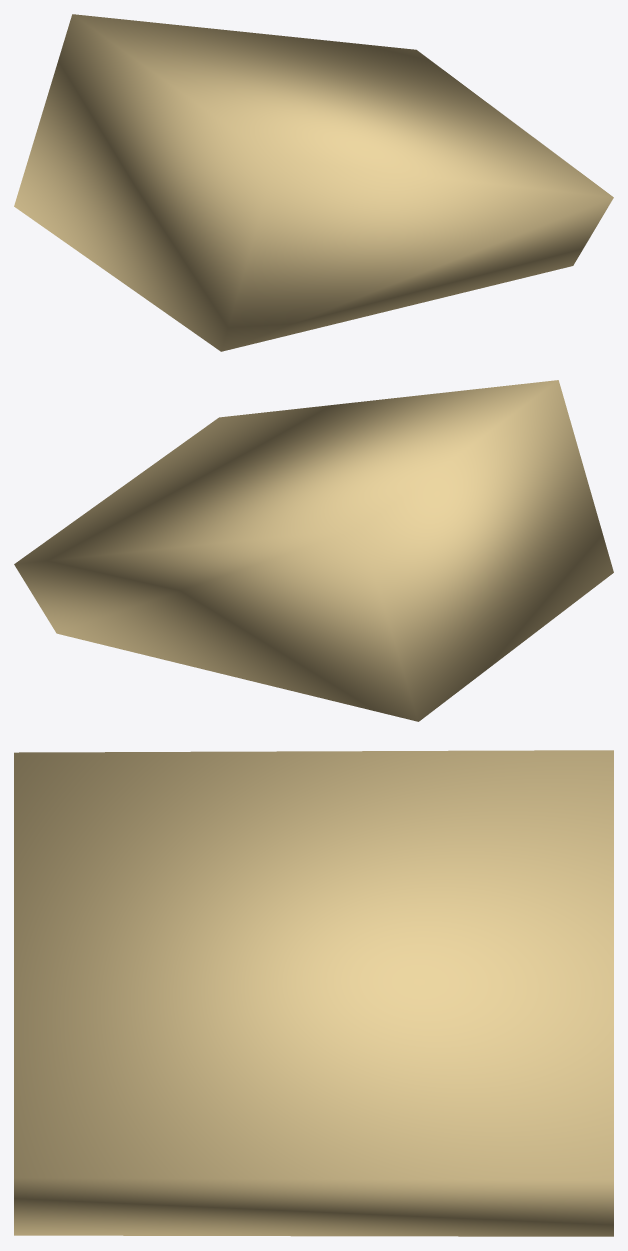
The model's file is rooftopextender.fbx.
3 renders of one model, top to bottom at view 1: azimuth 30°, elevation 25°; view 2: azimuth 150°, elevation 25°; view 3: azimuth 270°, elevation 25°, orthographic. The views are drawn at different scales.
Visible parts, largest first — view 1: roofextenderihope; view 2: roofextenderihope; view 3: roofextenderihope.
Boxes of the visible parts, <box> form: roofextenderihope: <box>14,14,613,351</box>; roofextenderihope: <box>14,380,613,721</box>; roofextenderihope: <box>14,750,613,1236</box>.
Bounding box in the file's own units: 275 × 117 × 238.
